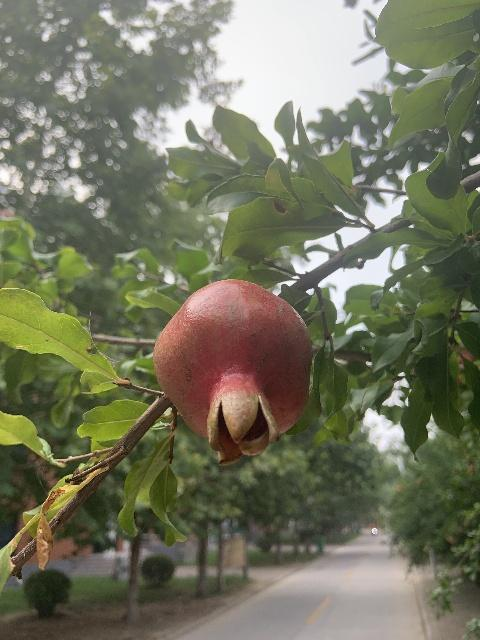ripe: (152, 279, 313, 465)
